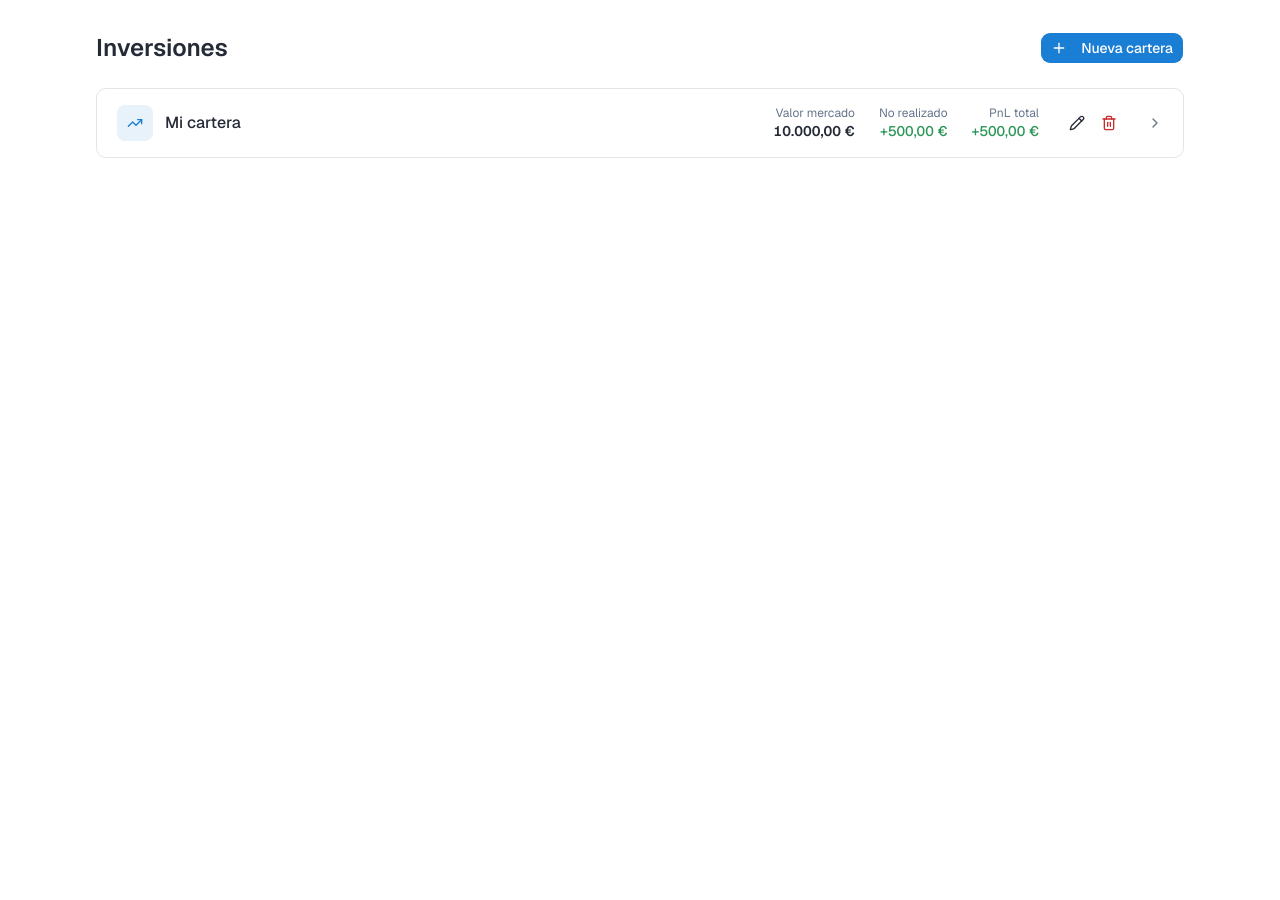
it: InvestmentsPage — card de cartera › click en "Eliminar" abre el modal de confirmación y NO navega
What coordinates should you click on to do the following:
click the button with test id "btn-delete-portfolio"
I would click on:
 (1109, 123)
Its box is [1095,109,1123,137].
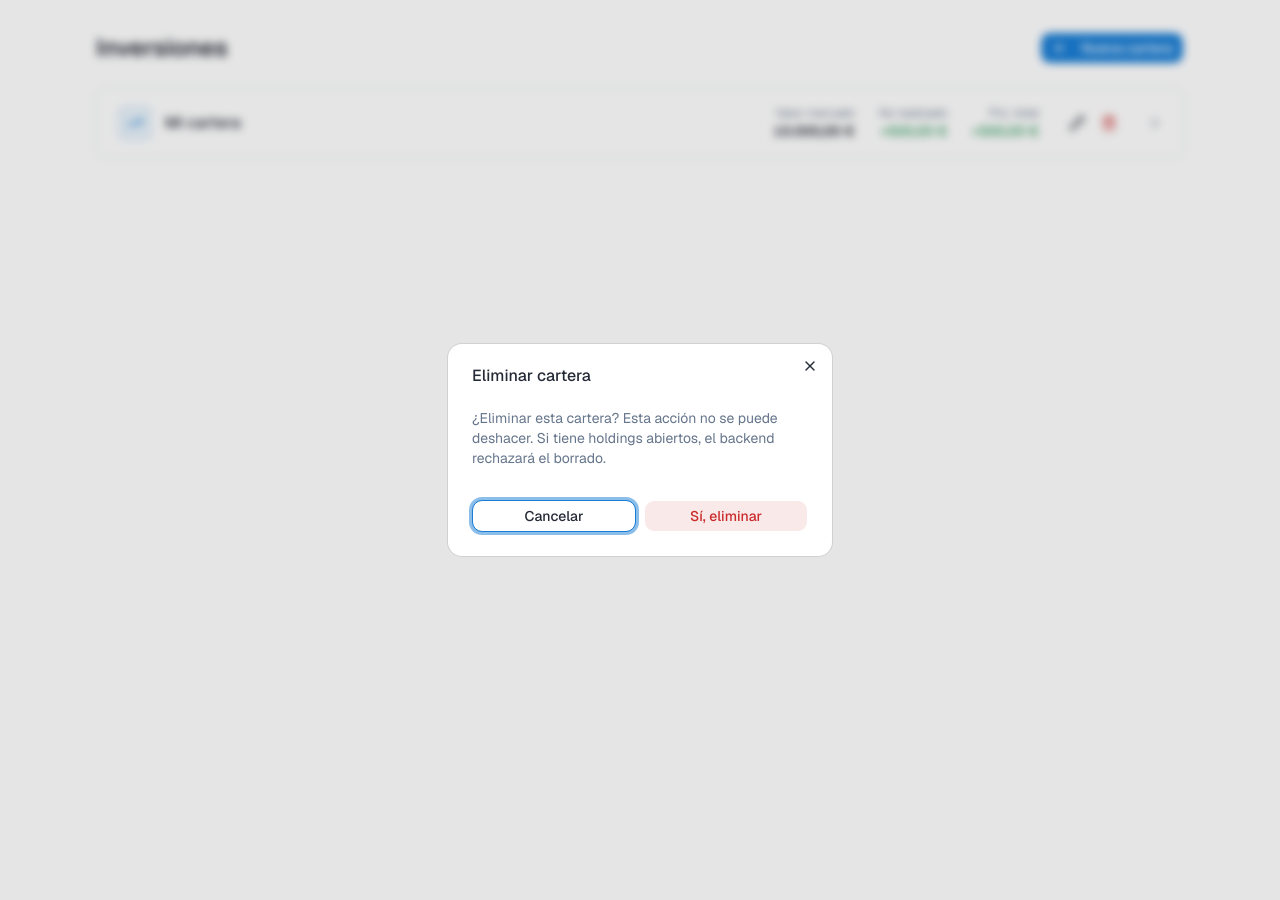
Check: the heading "Eliminar cartera" is shown, box [472,365,591,386]
